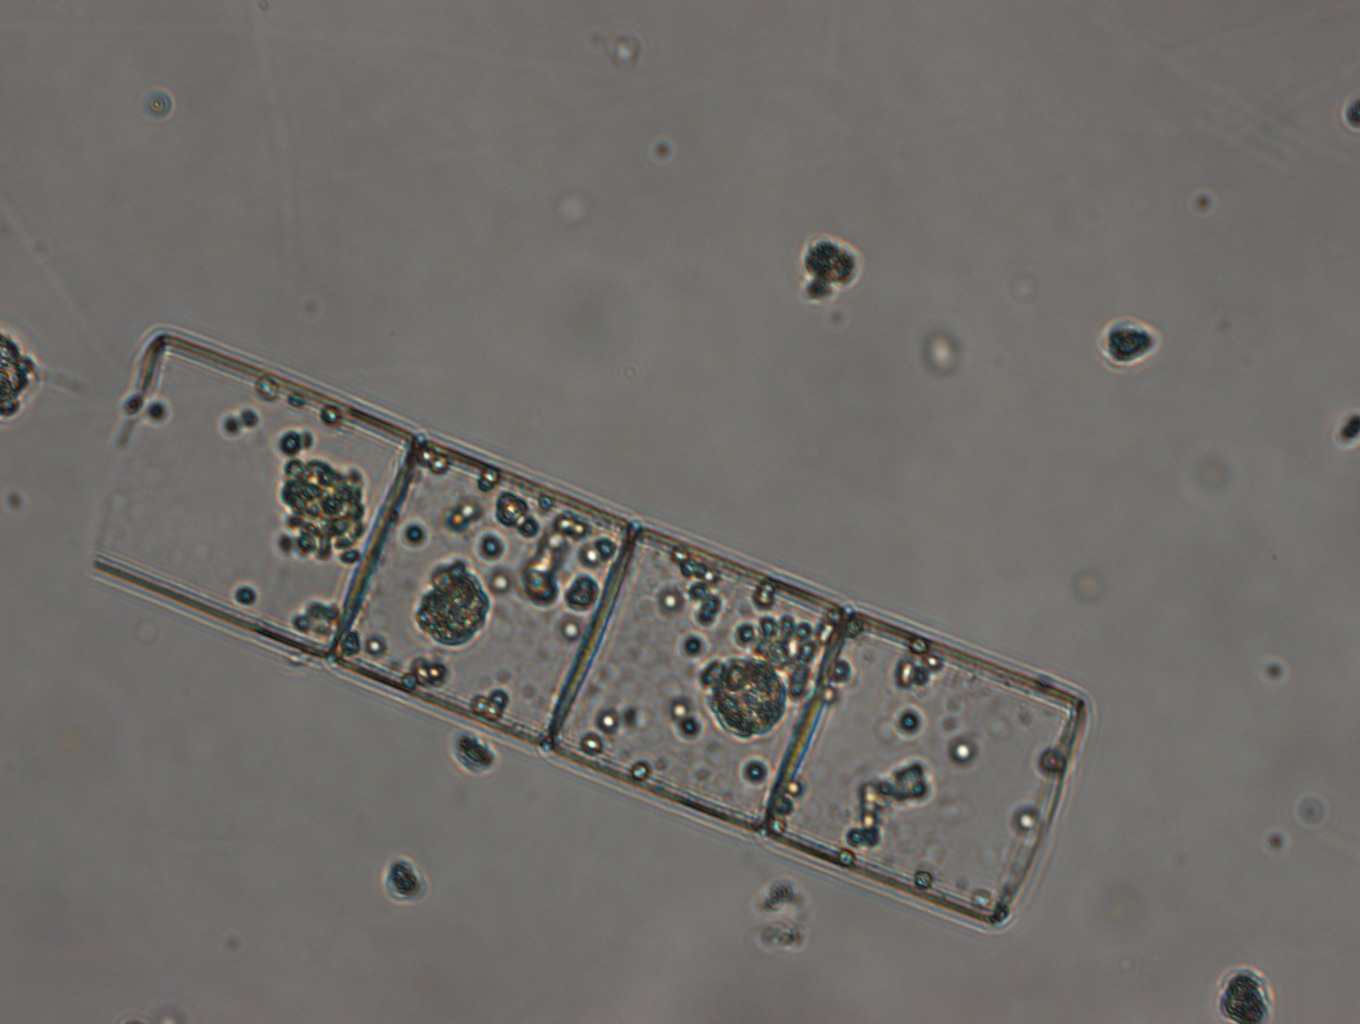guinardia flaccida: (73, 318, 1099, 937)
